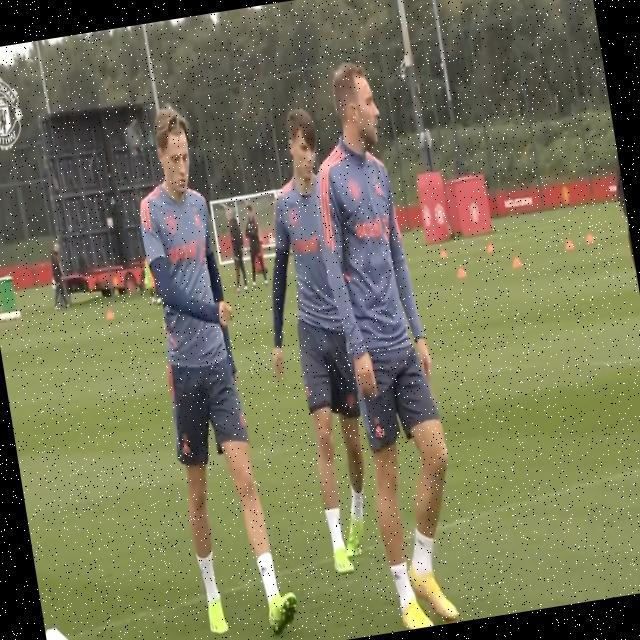Adidas: (373, 421, 387, 440), (179, 439, 192, 459), (373, 180, 385, 198)
